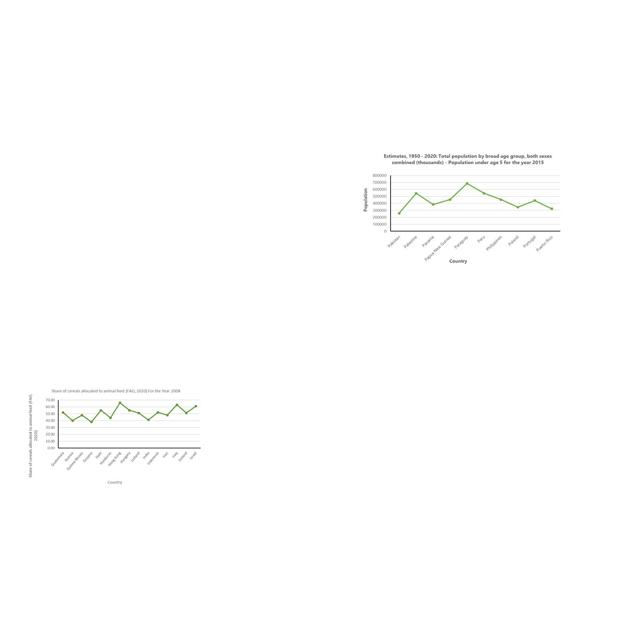Graph: (359, 150, 565, 266), (23, 385, 204, 488)
